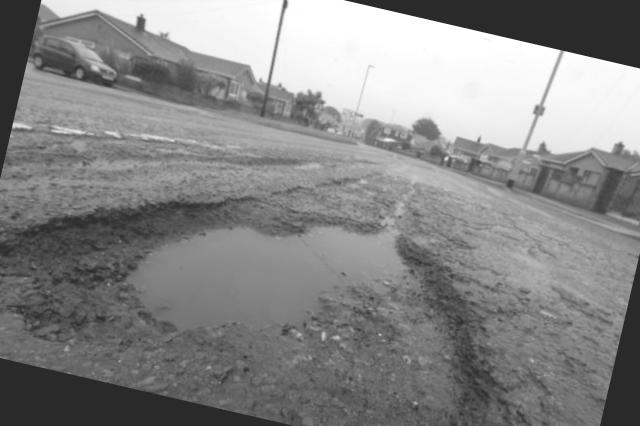Pothole: (35, 123, 508, 426)
